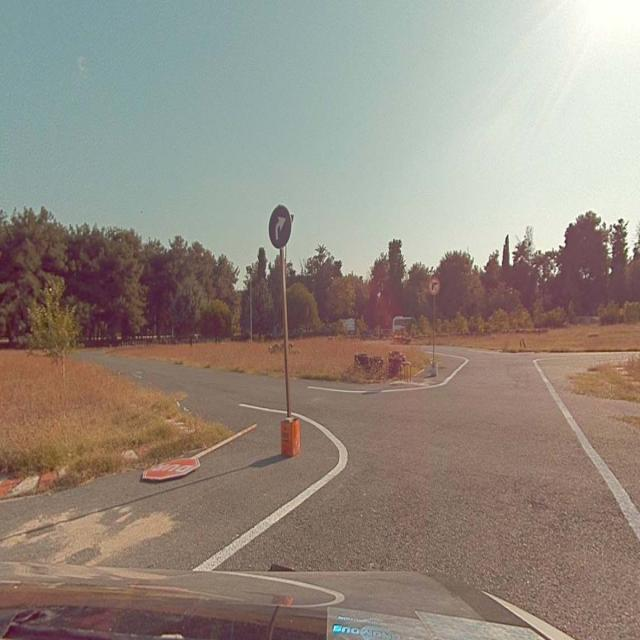sag: (269, 206, 292, 246)
sagadonulmez: (428, 277, 440, 295)
